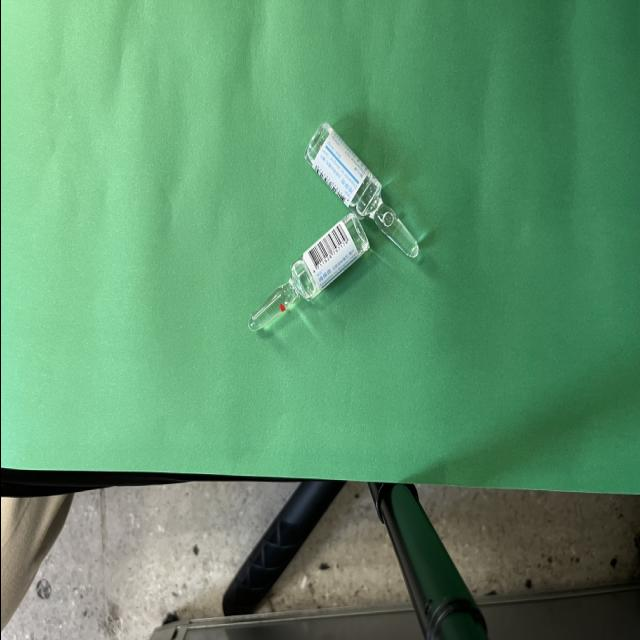Ampoules: (304, 123, 418, 258), (248, 213, 369, 331)
